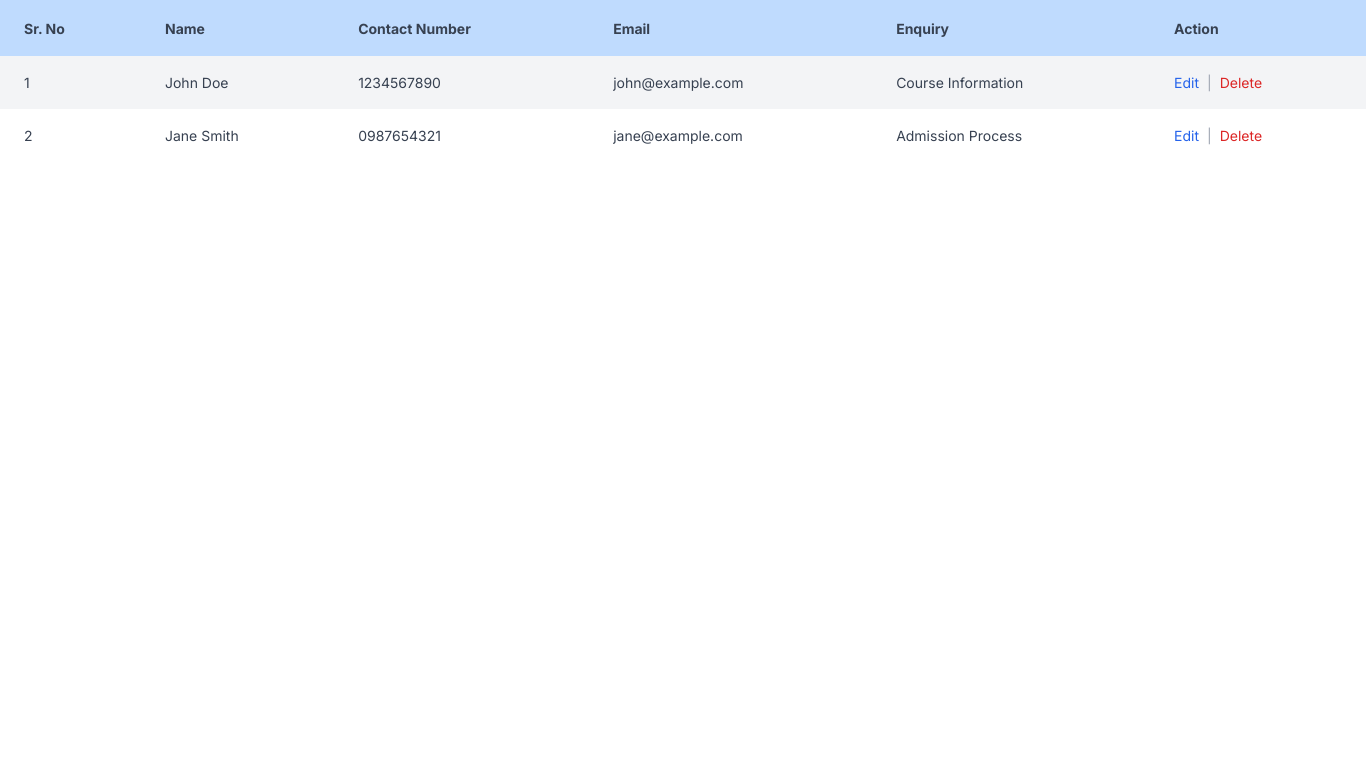
Test case: EnquiryTable › opens and closes delete confirmation card
Check: the text "John Doe" is shown, box [141,56,334,109]
Click the button "Delete" in the row of "John Doe": {"x": 1241, "y": 82} [1220,72,1262,93]
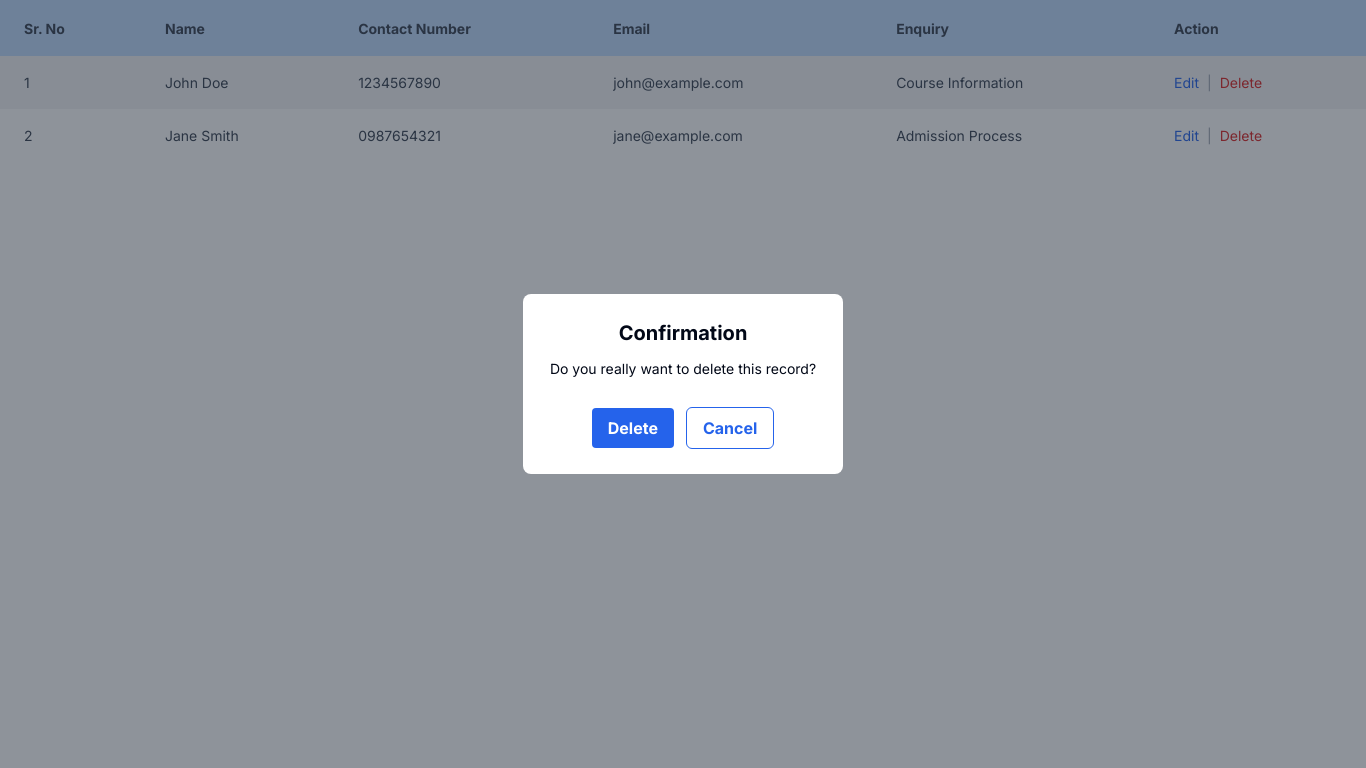
Check: the heading "Do you really want to delete this record?" is shown, box [550,359,816,379]
Click the button "Cancel": {"x": 730, "y": 428} [686,407,774,449]
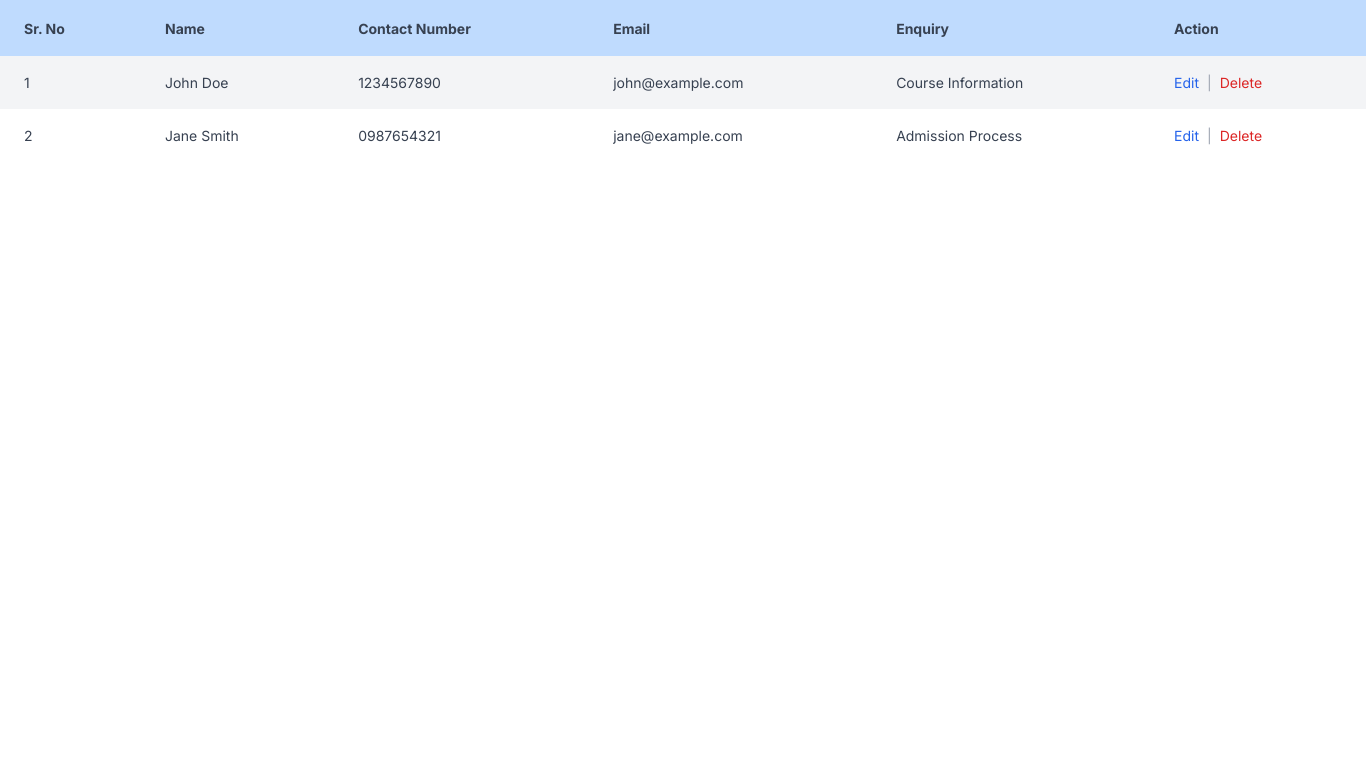
Check: the heading "Do you really want to delete this record?" is gone
